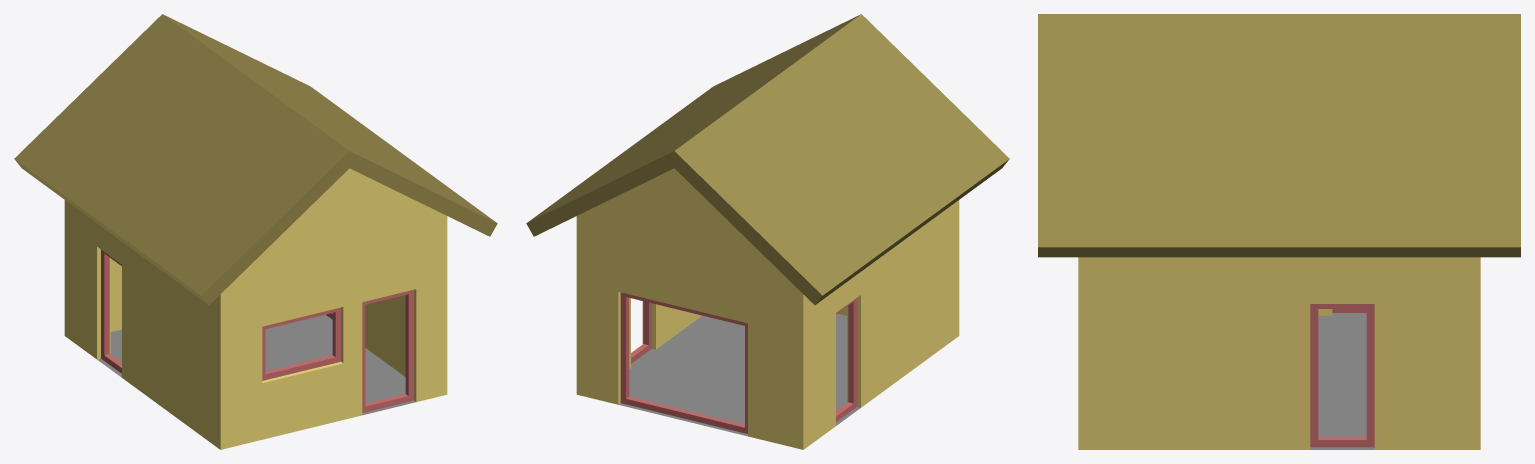
File: result.glb
3 views of the same model, side by side, from view 1: azimuth 30°, elevation 25°; view 2: azimuth 150°, elevation 25°; view 3: azimuth 270°, elevation 25° (orthographic). The views are drawn at different scales.
Visible parts, largest first — view 1: d2d8beb8-5450-448d-a934-ffc9e8e08c93__undefined (×2), 6a3f5a2f-c7c1-4ec5-bd98-89723cc06751__undefined, e64a2333-27c1-4924-93d2-be3c78458240__Plane_6, cff6fadd-d6d6-4a64-b29a-e860e653d648__Box, b268674b-156f-46d6-9ec1-c8c5af349bae__Box_3, 861edd22-3dc3-4a17-9a7d-8bcb7bdd4feb__Box_12; view 2: d2d8beb8-5450-448d-a934-ffc9e8e08c93__undefined (×2), 6a3f5a2f-c7c1-4ec5-bd98-89723cc06751__undefined, e64a2333-27c1-4924-93d2-be3c78458240__Plane_6, 510eeeb2-2356-4822-9ab9-ab2704977046__Box_9, 861edd22-3dc3-4a17-9a7d-8bcb7bdd4feb__Box_12, fa55618a-d3ef-4955-b81e-e1d2b7c06003__Box_15; view 3: d2d8beb8-5450-448d-a934-ffc9e8e08c93__undefined, 6a3f5a2f-c7c1-4ec5-bd98-89723cc06751__undefined, e64a2333-27c1-4924-93d2-be3c78458240__Plane_6, fa55618a-d3ef-4955-b81e-e1d2b7c06003__Box_15.
Part boxes in pixels (box(x1,y1,x2,y2)): d2d8beb8-5450-448d-a934-ffc9e8e08c93__undefined (×2): box(14, 14, 497, 304); 6a3f5a2f-c7c1-4ec5-bd98-89723cc06751__undefined: box(64, 168, 447, 449); e64a2333-27c1-4924-93d2-be3c78458240__Plane_6: box(97, 314, 415, 415); cff6fadd-d6d6-4a64-b29a-e860e653d648__Box: box(362, 289, 413, 412); b268674b-156f-46d6-9ec1-c8c5af349bae__Box_3: box(262, 307, 340, 380); 861edd22-3dc3-4a17-9a7d-8bcb7bdd4feb__Box_12: box(101, 249, 121, 373); d2d8beb8-5450-448d-a934-ffc9e8e08c93__undefined (×2): box(526, 14, 1009, 304); 6a3f5a2f-c7c1-4ec5-bd98-89723cc06751__undefined: box(576, 168, 959, 449); e64a2333-27c1-4924-93d2-be3c78458240__Plane_6: box(618, 313, 860, 436); 510eeeb2-2356-4822-9ab9-ab2704977046__Box_9: box(620, 292, 747, 433); 861edd22-3dc3-4a17-9a7d-8bcb7bdd4feb__Box_12: box(836, 298, 856, 421); fa55618a-d3ef-4955-b81e-e1d2b7c06003__Box_15: box(631, 301, 651, 363); d2d8beb8-5450-448d-a934-ffc9e8e08c93__undefined: box(1038, 14, 1520, 257); 6a3f5a2f-c7c1-4ec5-bd98-89723cc06751__undefined: box(1078, 257, 1480, 449); e64a2333-27c1-4924-93d2-be3c78458240__Plane_6: box(1310, 313, 1374, 449); fa55618a-d3ef-4955-b81e-e1d2b7c06003__Box_15: box(1310, 304, 1374, 447).
Bounding box in the file's own units: 549 × 500 × 600.
